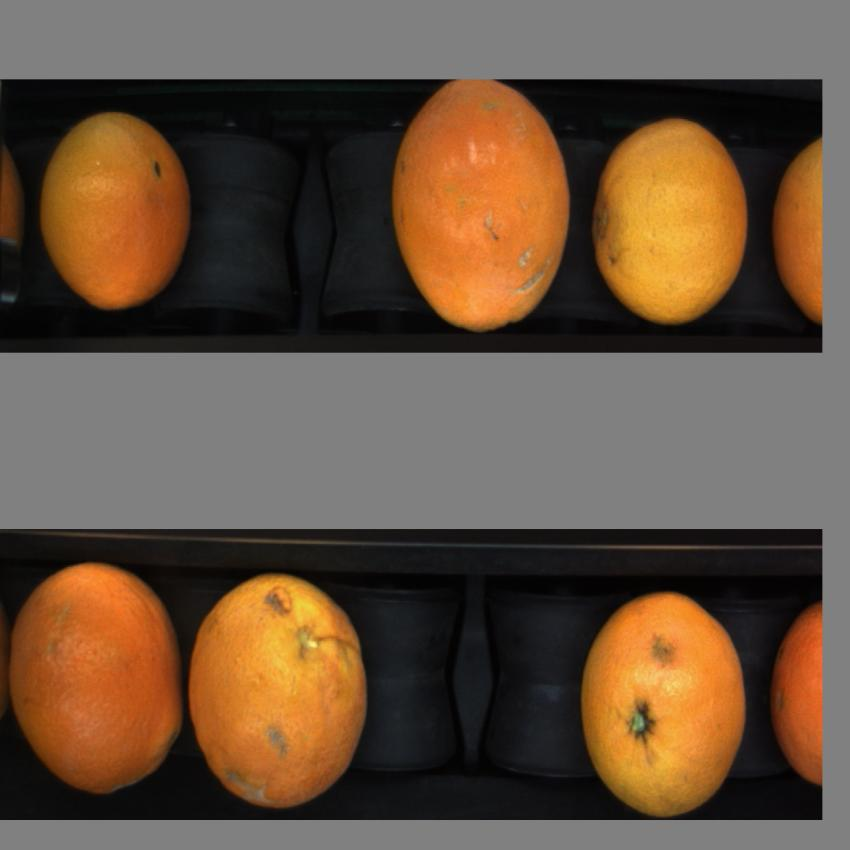Buen estado: (389, 83, 575, 336), (186, 568, 373, 815), (8, 562, 185, 797), (577, 583, 754, 818), (593, 114, 755, 332), (36, 97, 197, 316), (765, 596, 822, 787), (771, 136, 822, 324)
